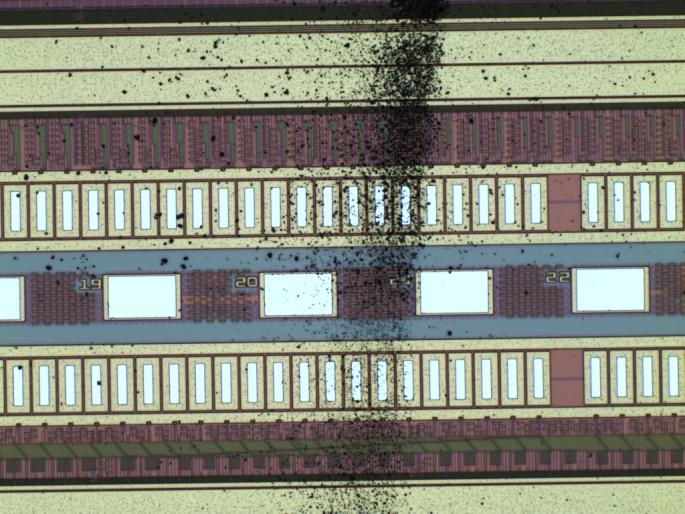PO CONTAMINATION: (10, 1, 685, 514)
